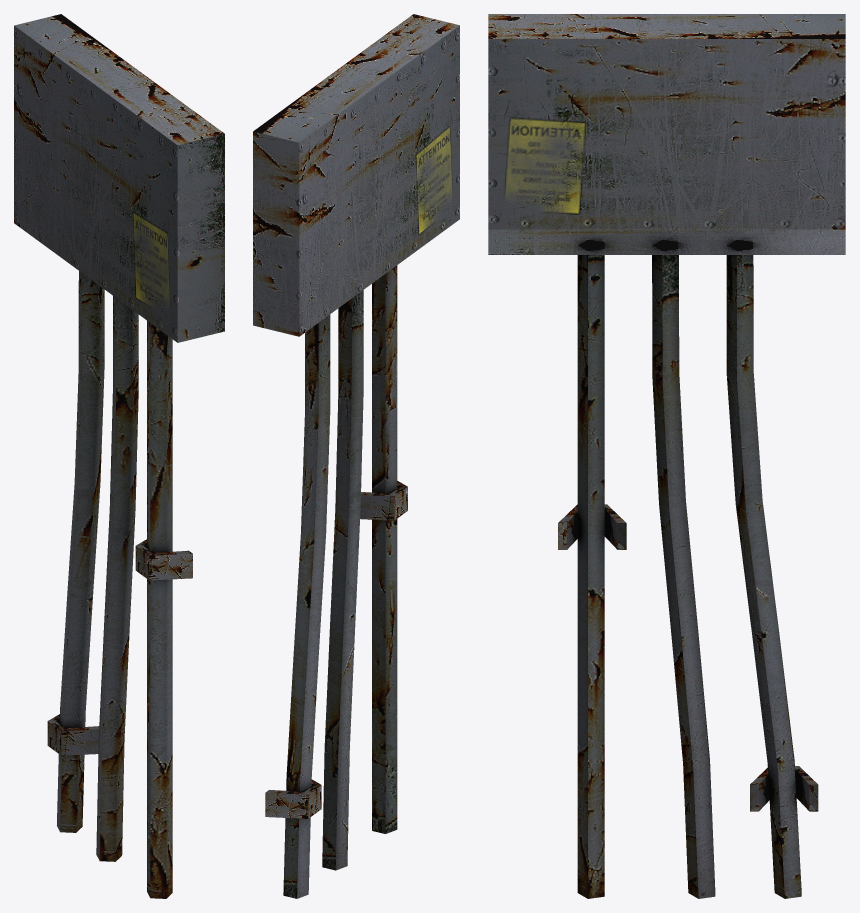
File: electr2.fbx
3 renders of one model, left to right at view 1: azimuth 30°, elevation 25°; view 2: azimuth 150°, elevation 25°; view 3: azimuth 270°, elevation 25°, orthographic. The views are drawn at different scales.
Parts seen in each view (by area): view 1: electr2_Layer1; view 2: electr2_Layer1; view 3: electr2_Layer1.
Part boxes in pixels (x1=…): electr2_Layer1: x1=14, y1=14, x2=224, y2=898; electr2_Layer1: x1=253, y1=14, x2=459, y2=898; electr2_Layer1: x1=488, y1=14, x2=845, y2=898.
Bounding box in the file's own units: 8 × 128 × 48.
1 material, 1 textured.
